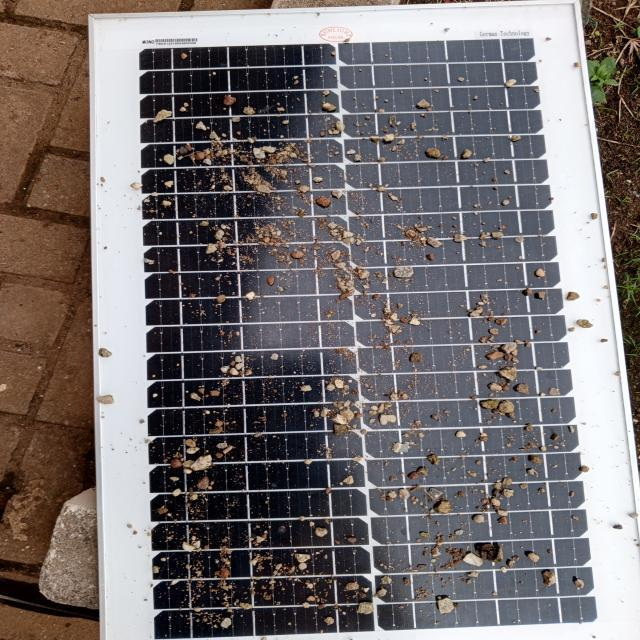Surface Contaminant: (119, 35, 568, 633)
